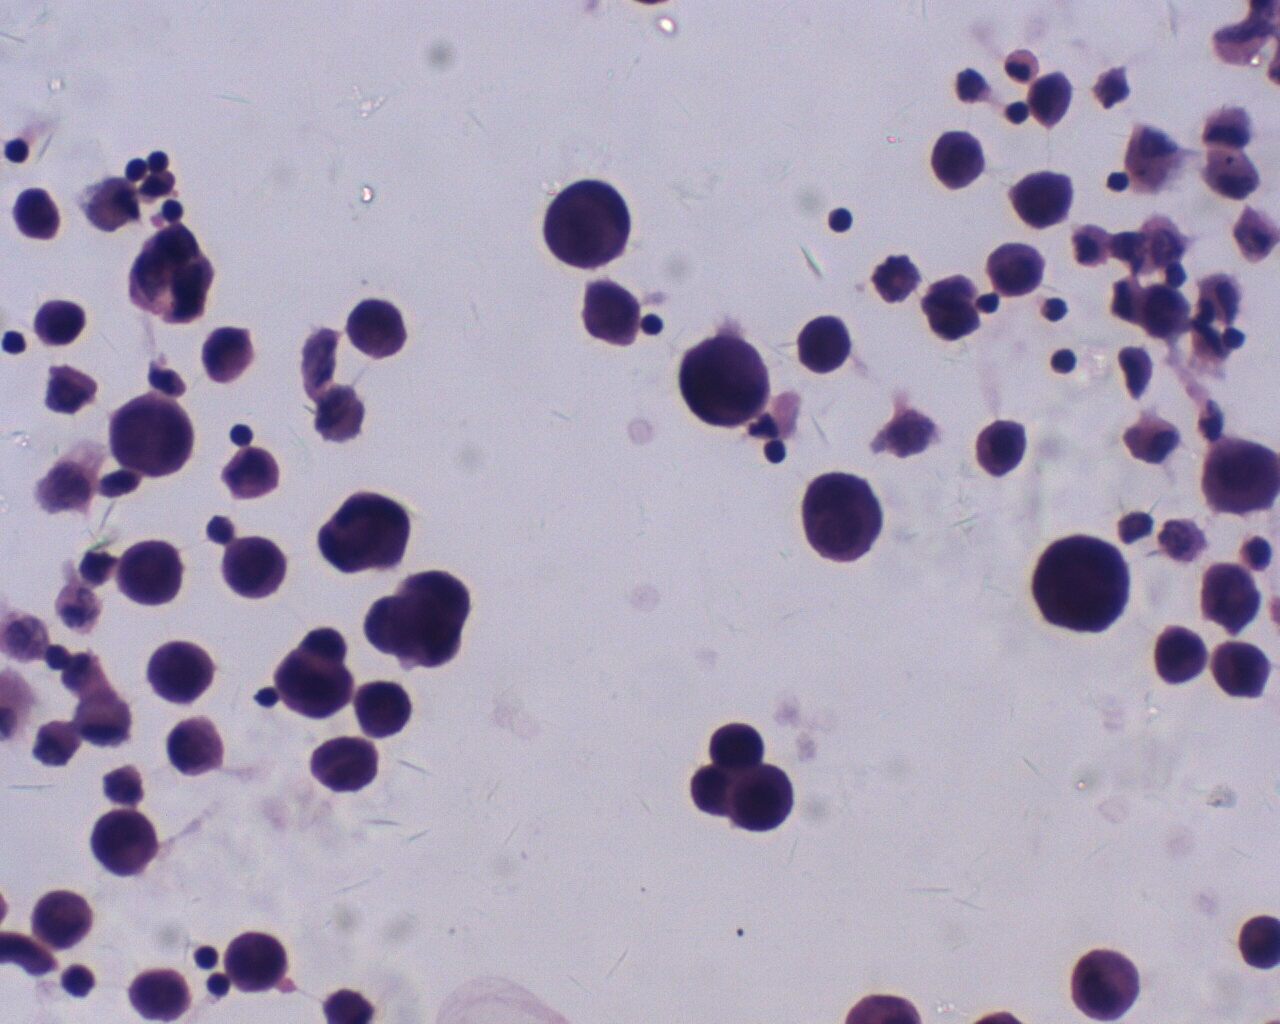ab: (1031, 534, 1132, 636), (674, 329, 770, 429), (544, 180, 632, 267), (106, 391, 194, 474), (802, 474, 879, 564), (147, 639, 215, 709), (114, 539, 180, 607)
lymph: (1047, 348, 1083, 377), (194, 944, 222, 974), (829, 203, 855, 232)
